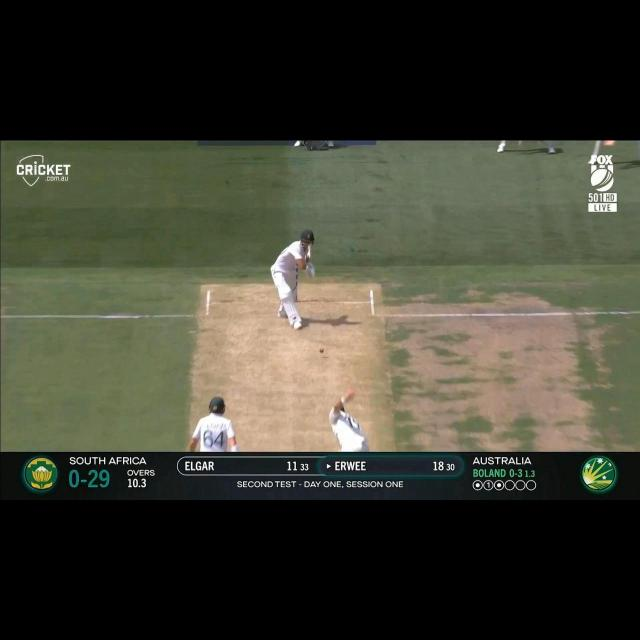bat: (306, 246, 312, 260)
